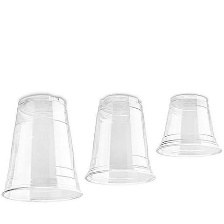glass: (0, 90, 89, 205), (81, 91, 161, 188), (151, 91, 224, 162)
